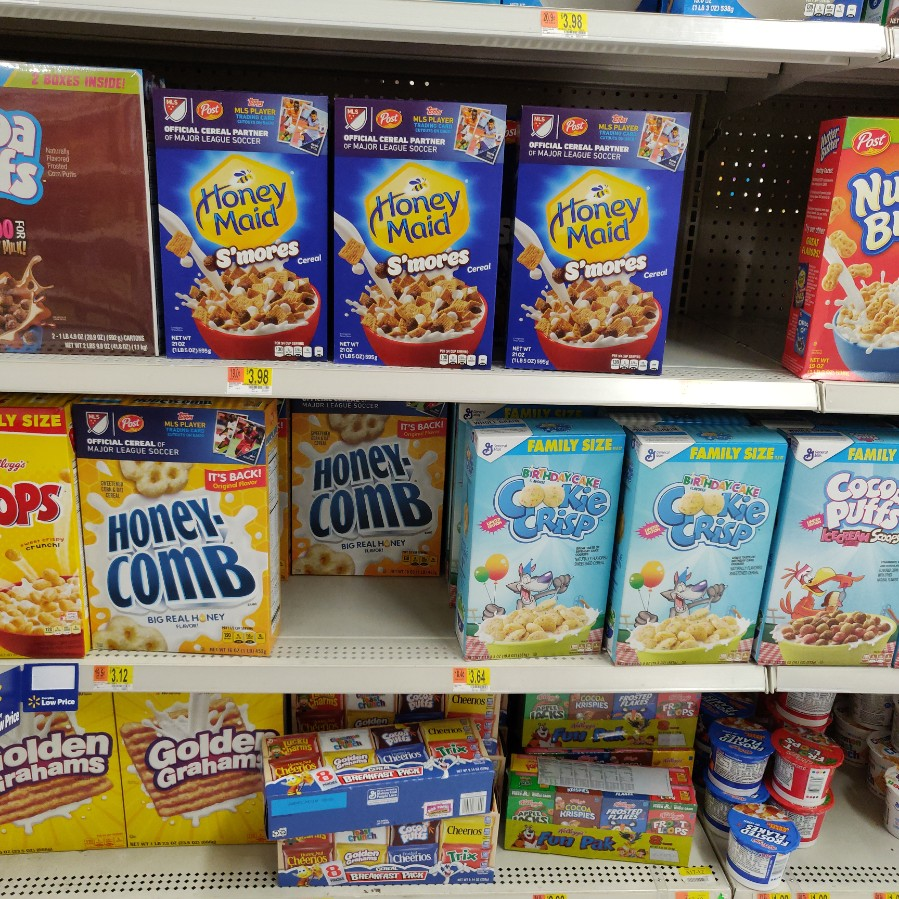Honey Comb- 009288857: (73, 408, 282, 659), (291, 399, 454, 582)
